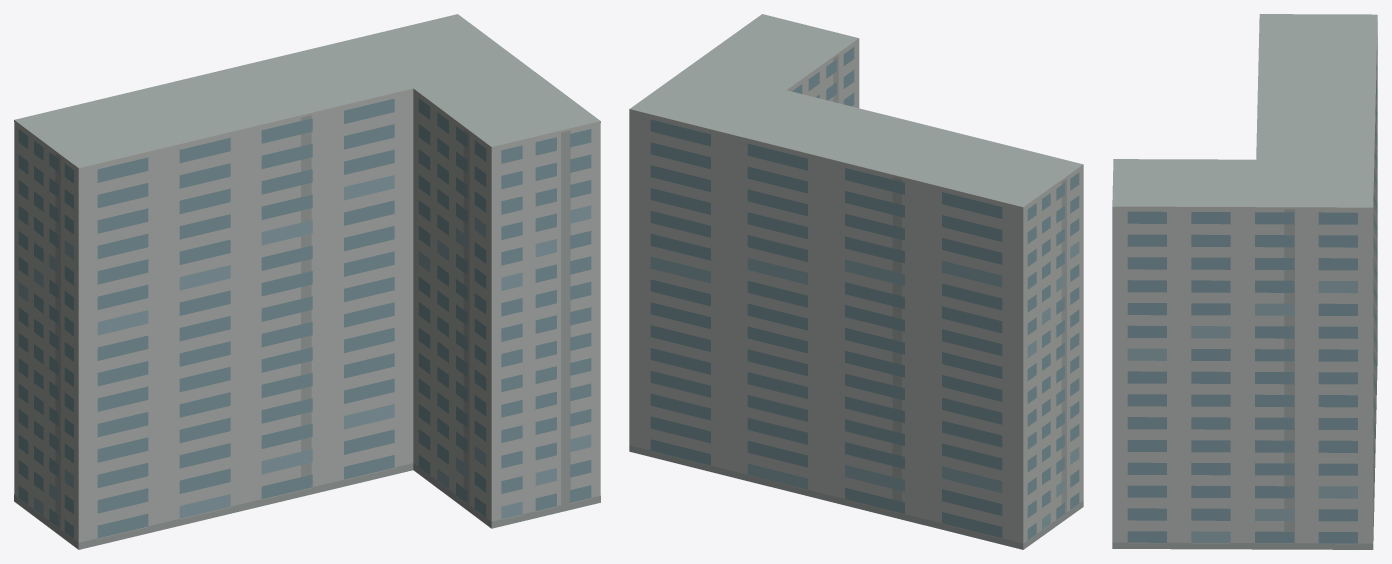
File: residential-84ba96c0-b0e3-4f87-ae0f-f77c6088eb1d.glb
The picture shows the model from 3 angles, left to right: view 1: azimuth 30°, elevation 25°; view 2: azimuth 150°, elevation 25°; view 3: azimuth 270°, elevation 25°; orthographic projection. The views are drawn at different scales.
Visible parts, largest first — view 1: residential-84ba96c0-b0e3-4f87-ae0f-f77c6088eb1d.tmp; view 2: residential-84ba96c0-b0e3-4f87-ae0f-f77c6088eb1d.tmp; view 3: residential-84ba96c0-b0e3-4f87-ae0f-f77c6088eb1d.tmp.
Boxes of the visible parts, x1,y1,x2,y2 form: residential-84ba96c0-b0e3-4f87-ae0f-f77c6088eb1d.tmp: (14, 14, 600, 549); residential-84ba96c0-b0e3-4f87-ae0f-f77c6088eb1d.tmp: (629, 14, 1083, 549); residential-84ba96c0-b0e3-4f87-ae0f-f77c6088eb1d.tmp: (1112, 14, 1377, 549).
Size of the model in its own units: 50.96 by 42 by 29.51.
